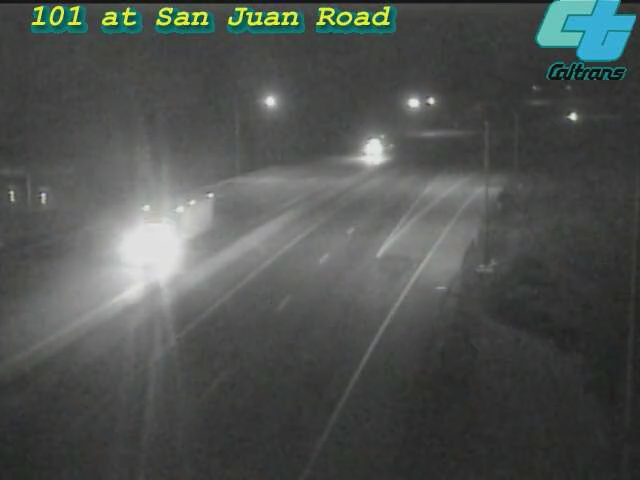vehicle: (129, 192, 209, 272), (350, 122, 400, 172), (547, 90, 597, 140)
